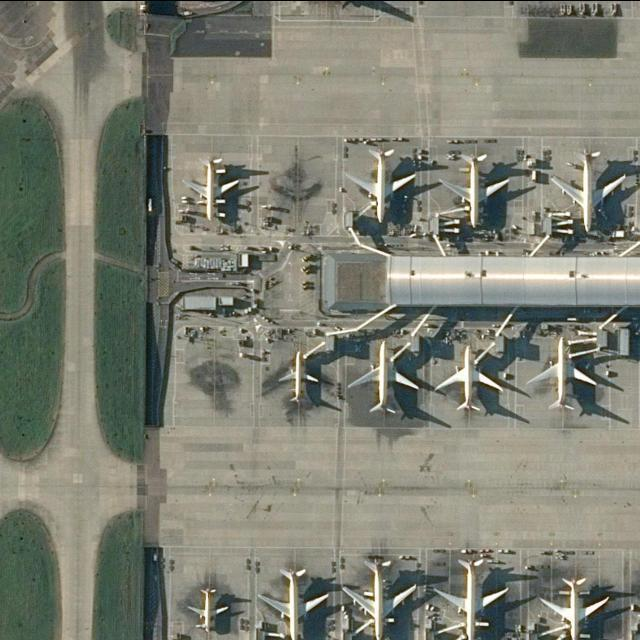Aircraft: (433, 553, 509, 640), (549, 151, 629, 233), (552, 148, 628, 234), (435, 558, 512, 640), (343, 558, 419, 640), (343, 560, 418, 640), (344, 147, 419, 225), (438, 151, 511, 230), (439, 152, 512, 231), (348, 339, 420, 417), (345, 147, 417, 225), (528, 336, 600, 413), (348, 339, 420, 415), (528, 335, 598, 413), (257, 567, 331, 640), (259, 567, 331, 640), (435, 343, 505, 415), (434, 345, 504, 415), (538, 574, 610, 640), (540, 576, 612, 640), (184, 156, 242, 222), (186, 157, 244, 221), (278, 350, 321, 404), (276, 350, 318, 403), (187, 586, 231, 633), (188, 587, 230, 631)
